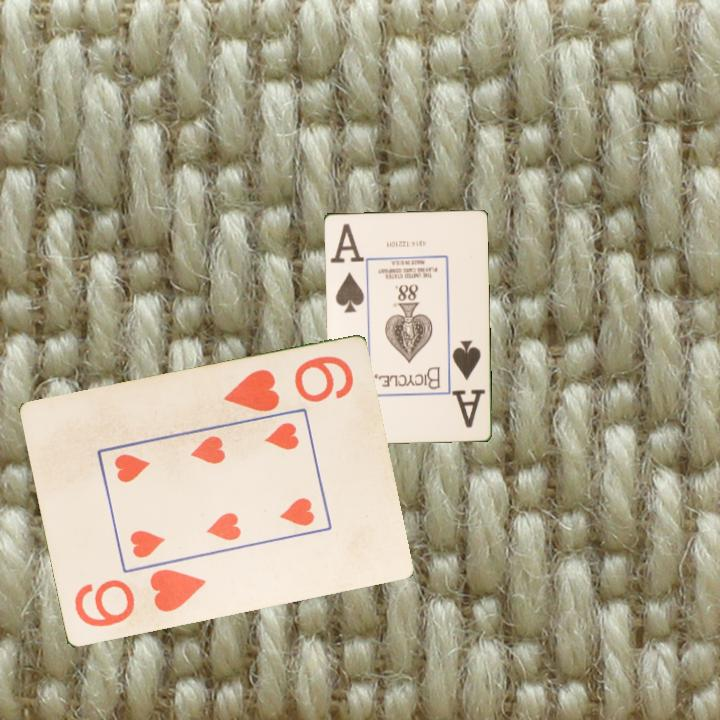6h: (70, 566, 209, 631), (219, 353, 356, 416)
As: (449, 336, 488, 430), (332, 229, 366, 315)
